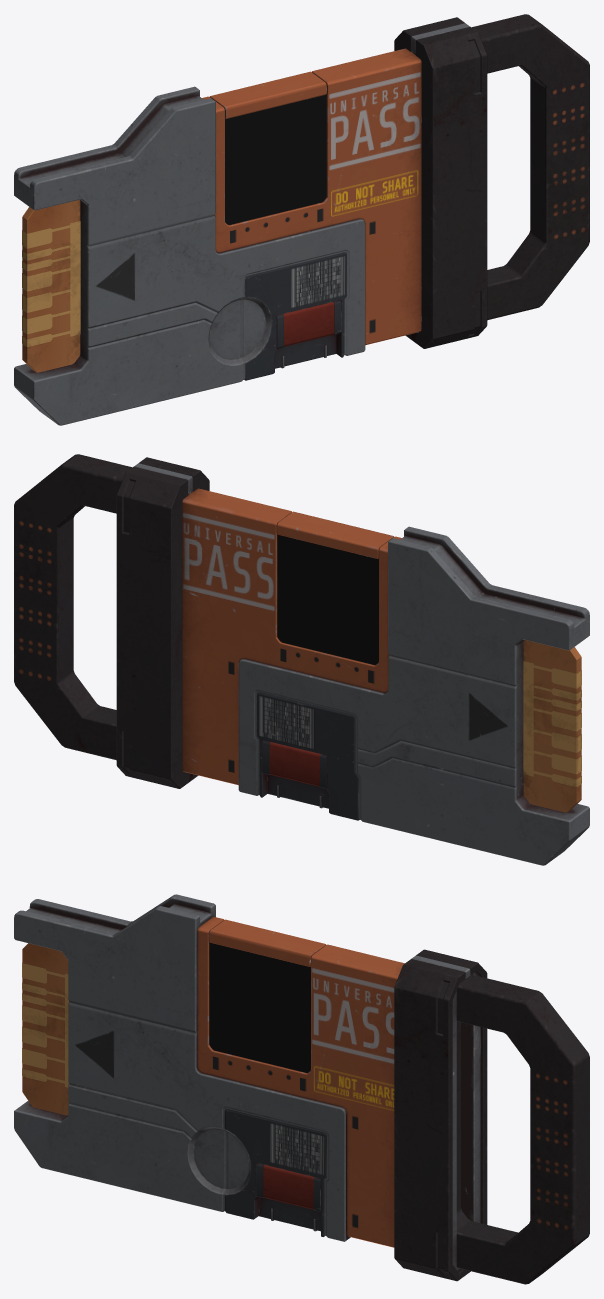
Rendered from hacking_key.fbx.
The picture shows the model from 3 angles, top to bottom: view 1: azimuth 30°, elevation 25°; view 2: azimuth 150°, elevation 25°; view 3: azimuth 330°, elevation 25°; orthographic projection.
Parts seen in each view (by area): view 1: hacking_key; view 2: hacking_key; view 3: hacking_key.
Boxes of the visible parts, bbox=[...] form: hacking_key: bbox=[14, 14, 589, 425]; hacking_key: bbox=[14, 454, 589, 865]; hacking_key: bbox=[14, 894, 589, 1284].
Size of the model in its own units: 36.83 by 19.13 by 4.42.
